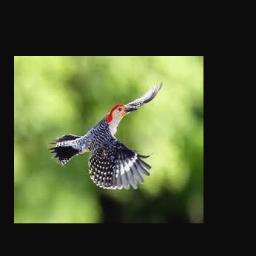Woodpecker: (50, 80, 163, 189)
